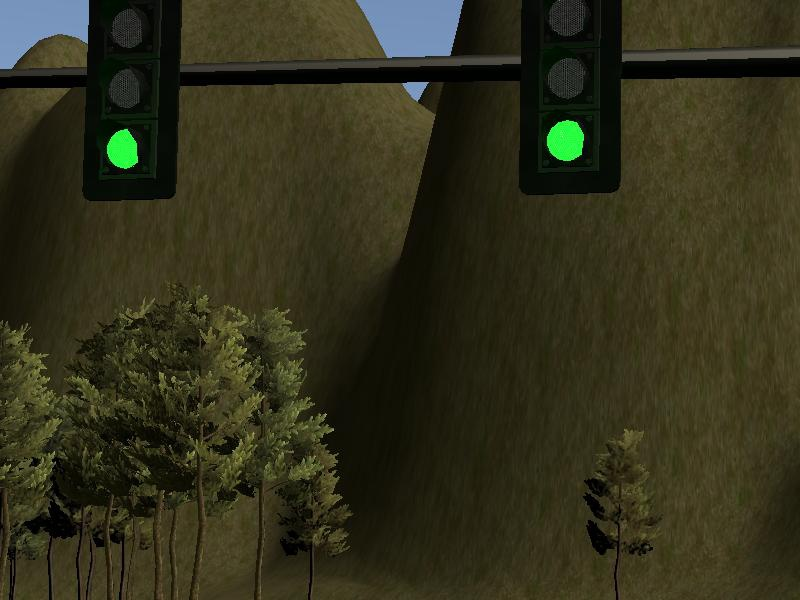Green: (521, 1, 621, 191), (91, 1, 171, 199)
